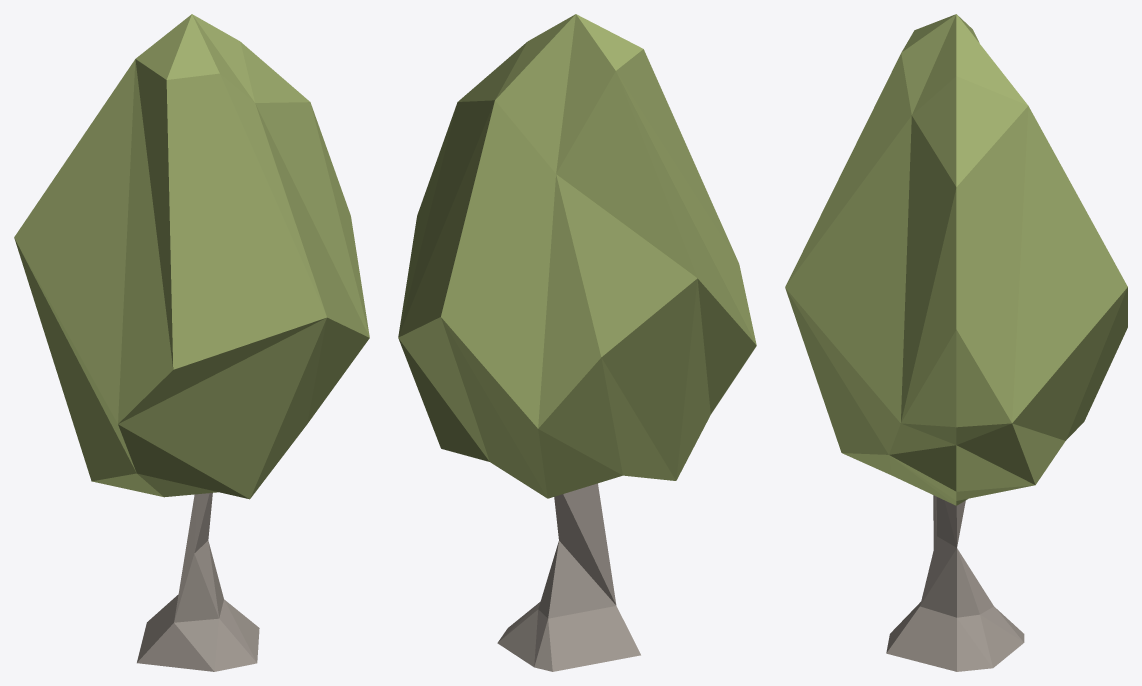
File: tree05.fbx
3 renders of one model, left to right at view 1: azimuth 30°, elevation 25°; view 2: azimuth 150°, elevation 25°; view 3: azimuth 270°, elevation 25°, orthographic.
Visible parts, largest first — view 1: revolvedSurface2; view 2: revolvedSurface2; view 3: revolvedSurface2.
Boxes of the visible parts, x1,y1,x2,y2 form: revolvedSurface2: (14,14,369,671); revolvedSurface2: (398,14,756,671); revolvedSurface2: (785,14,1127,671).
Bounding box in the file's own units: 0.1045 × 0.204 × 0.1014.
